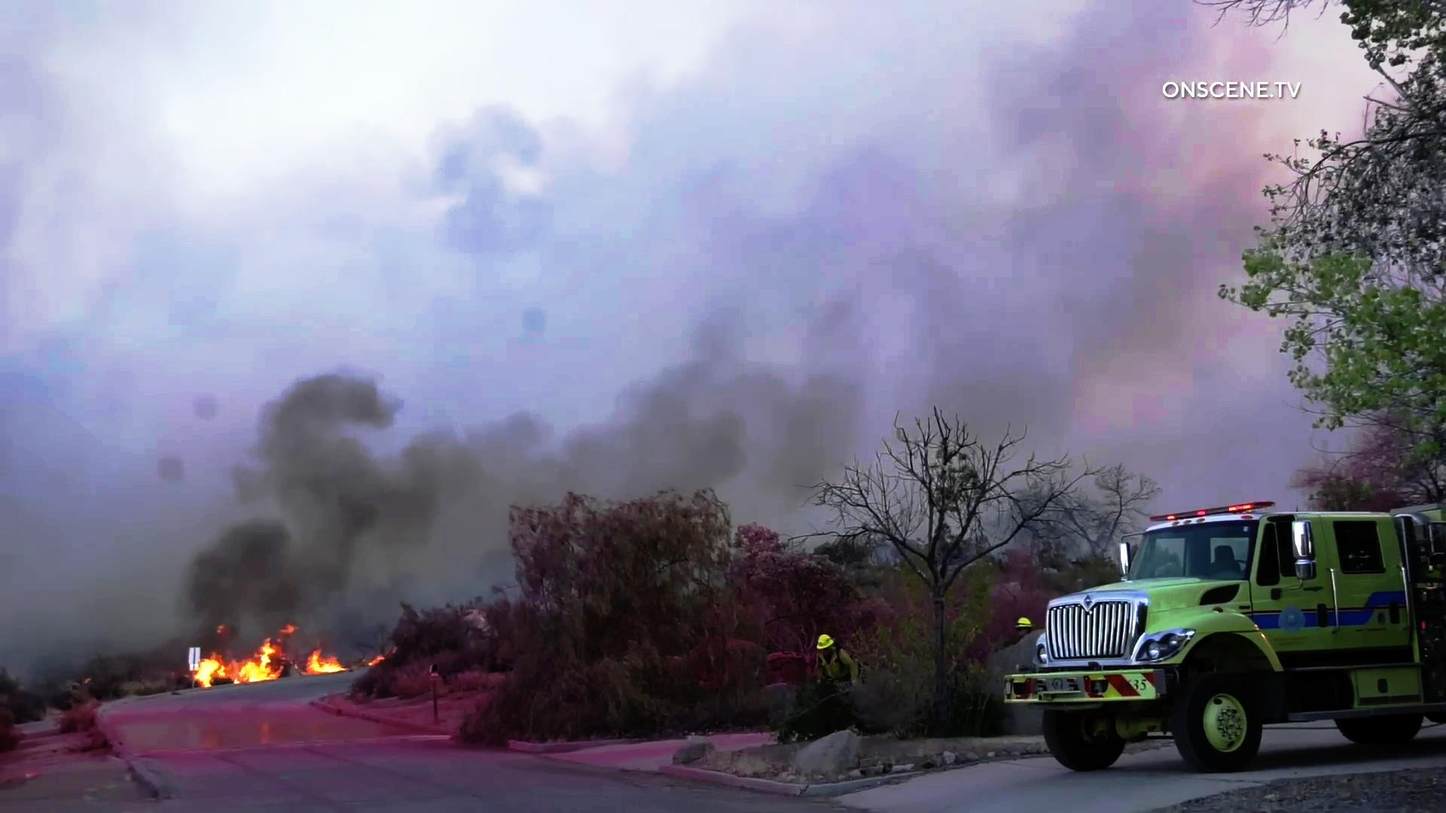fire: (183, 642, 359, 685)
smoke: (166, 360, 403, 634)
